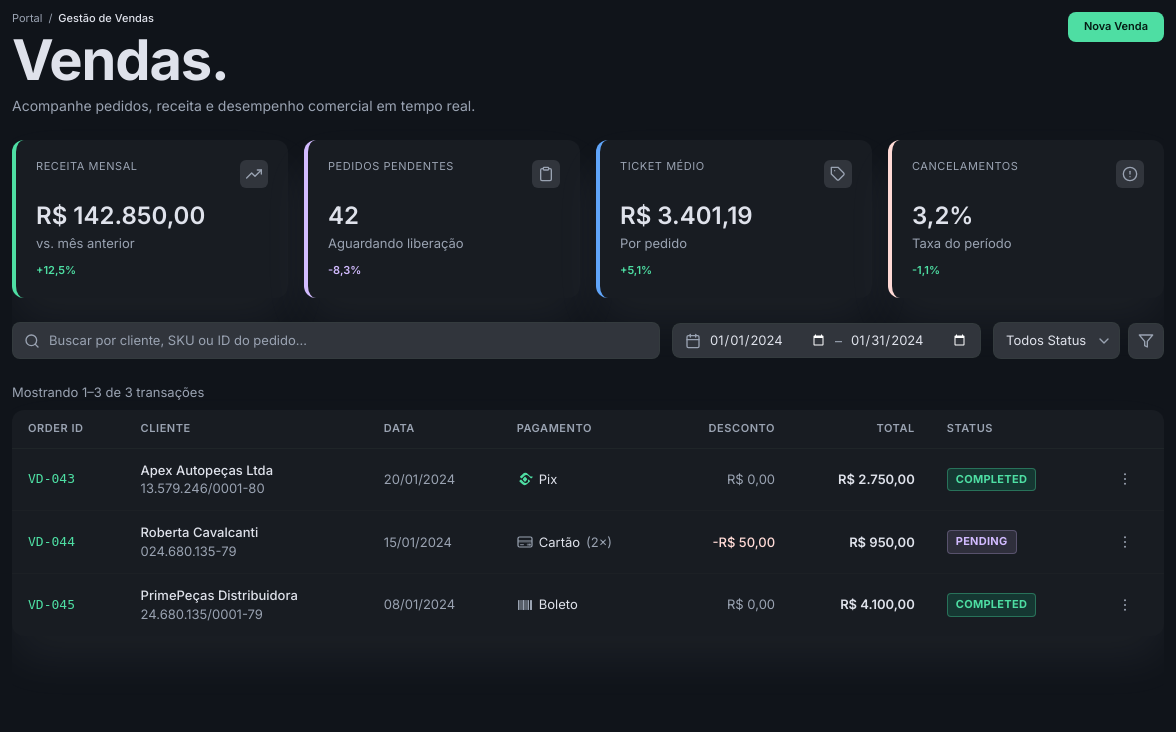
SalesPage — 3.x Filtros (integração) › 3.1 digitar no campo de busca filtra por nome do cliente após debounce
In the search field named "buscar vendas": (336, 340) [12,322,660,359], type "Apex"
Wait 300 ms
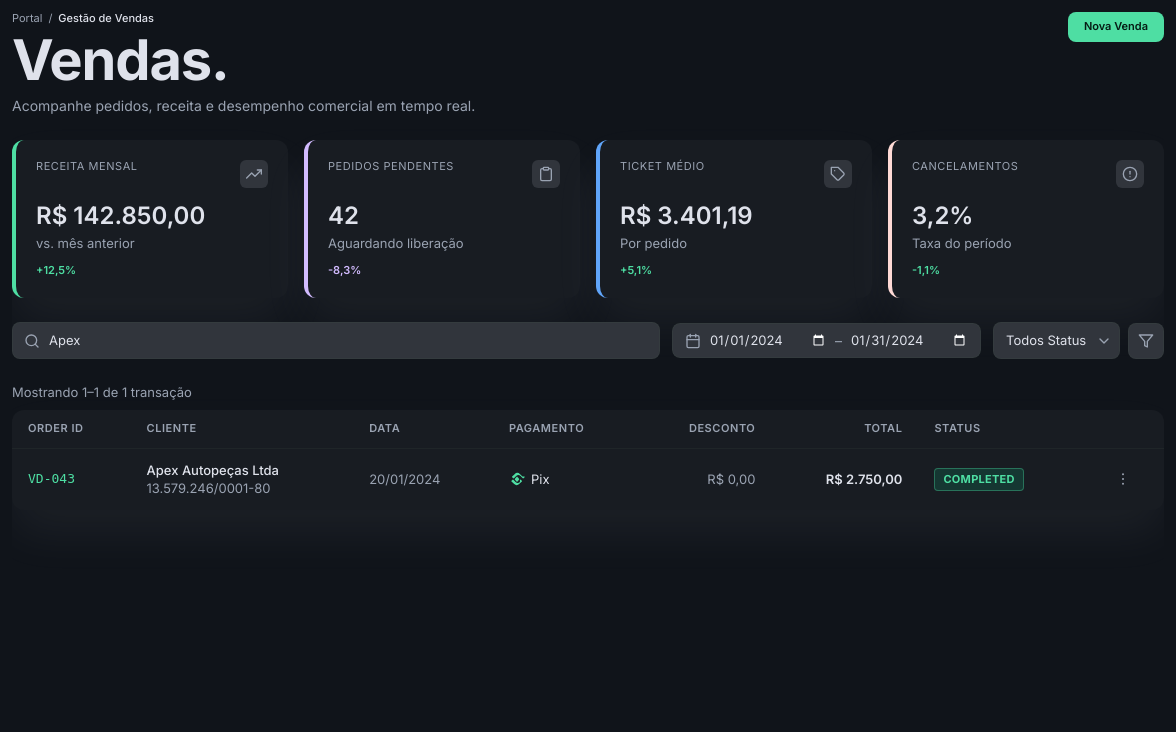
expect the text "Apex Autopeças Ltda" is shown: met, box [147,462,279,478]
expect the text "Roberta Cavalcanti" is gone: met
expect the text "Mostrando 1–1 de 1 transação" is shown: met, box [12,384,192,400]
